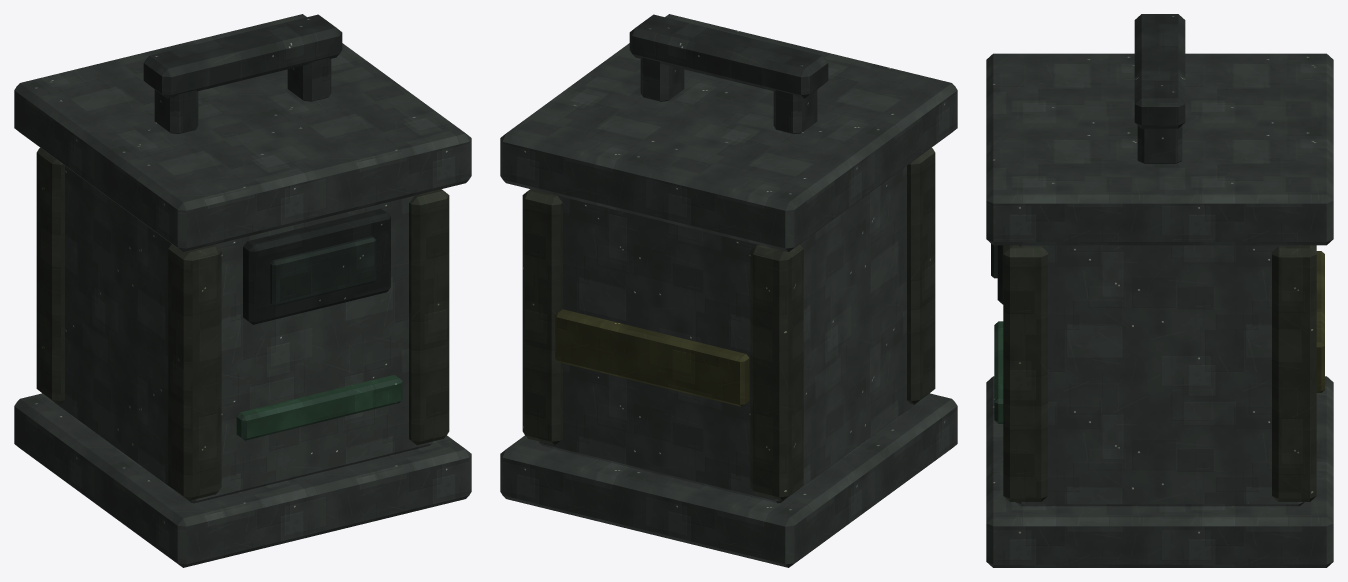
Rendered from power_cell.glb.
3 renders of one model, left to right at view 1: azimuth 30°, elevation 25°; view 2: azimuth 150°, elevation 25°; view 3: azimuth 270°, elevation 25°, orthographic. The views are drawn at different scales.
Parts seen in each view (by area): view 1: power_cell; view 2: power_cell; view 3: power_cell.
Boxes of the visible parts, x1=… form: power_cell: x1=14, y1=14, x2=471, y2=567; power_cell: x1=500, y1=14, x2=957, y2=567; power_cell: x1=986, y1=14, x2=1333, y2=567.
Bounding box in the file's own units: 0.2684 × 0.4 × 0.2684.
Materials: 1 (1 with a texture image).
